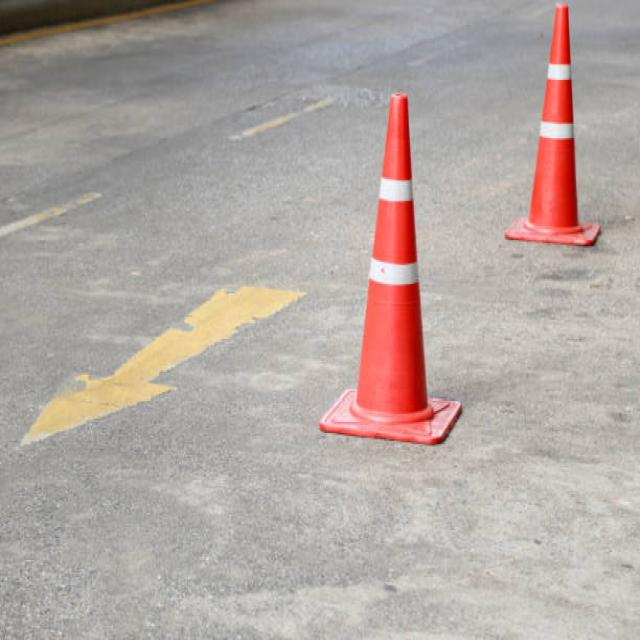Traffic Cone: (306, 63, 474, 460), (498, 0, 608, 274)
